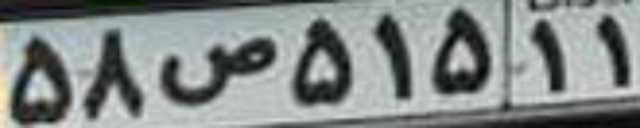1: (371, 14, 410, 99), (592, 13, 630, 86), (532, 16, 566, 91)
5: (289, 17, 354, 104), (11, 34, 73, 124), (431, 8, 491, 94)
8: (80, 28, 141, 121)
saat: (156, 34, 279, 106)
